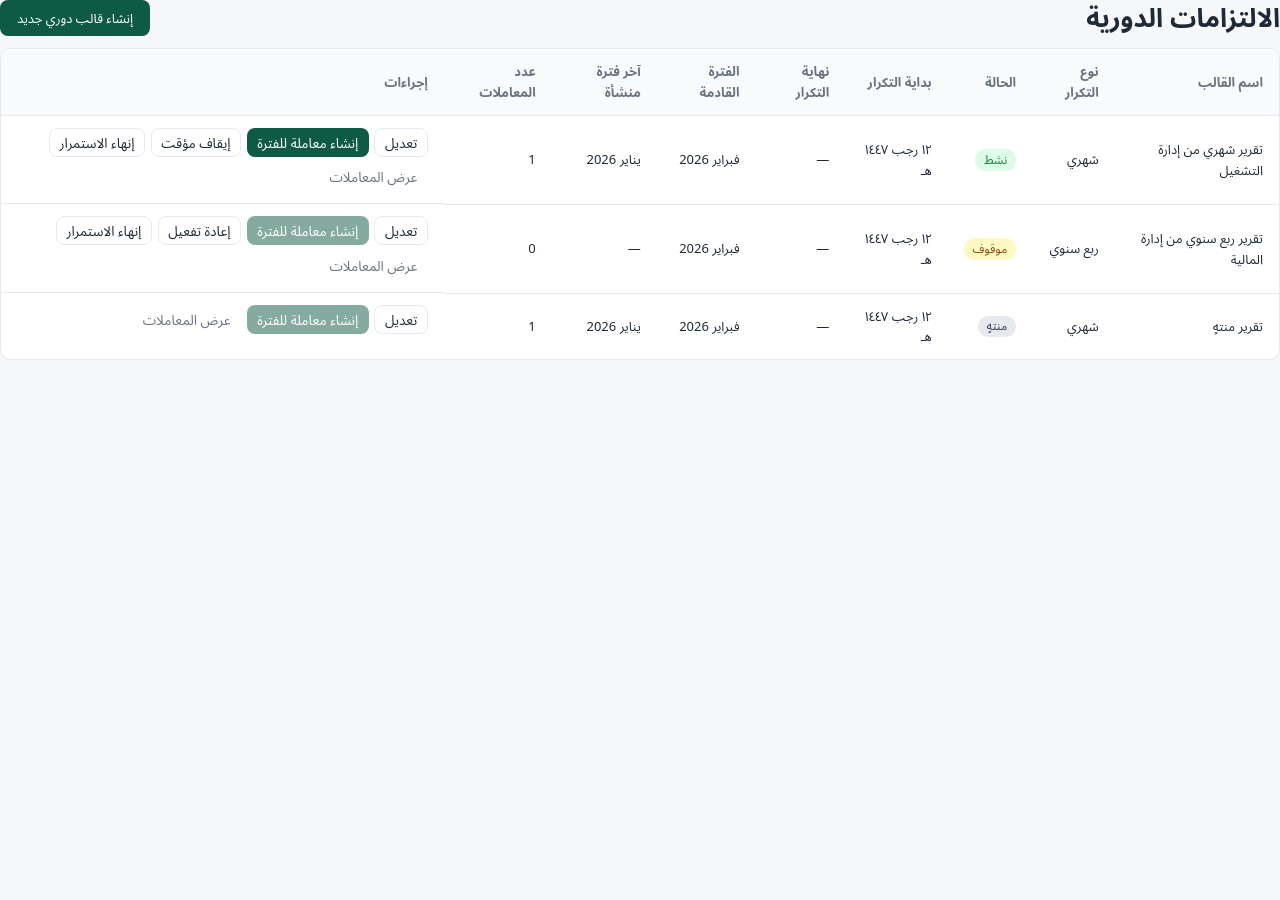
RecurringTemplatesPage › opens the create template modal
The width and height of the screenshot is (1280, 900).
Click the button "إنشاء قالب دوري جديد" at {"x": 75, "y": 18}, box [0,0,150,36]
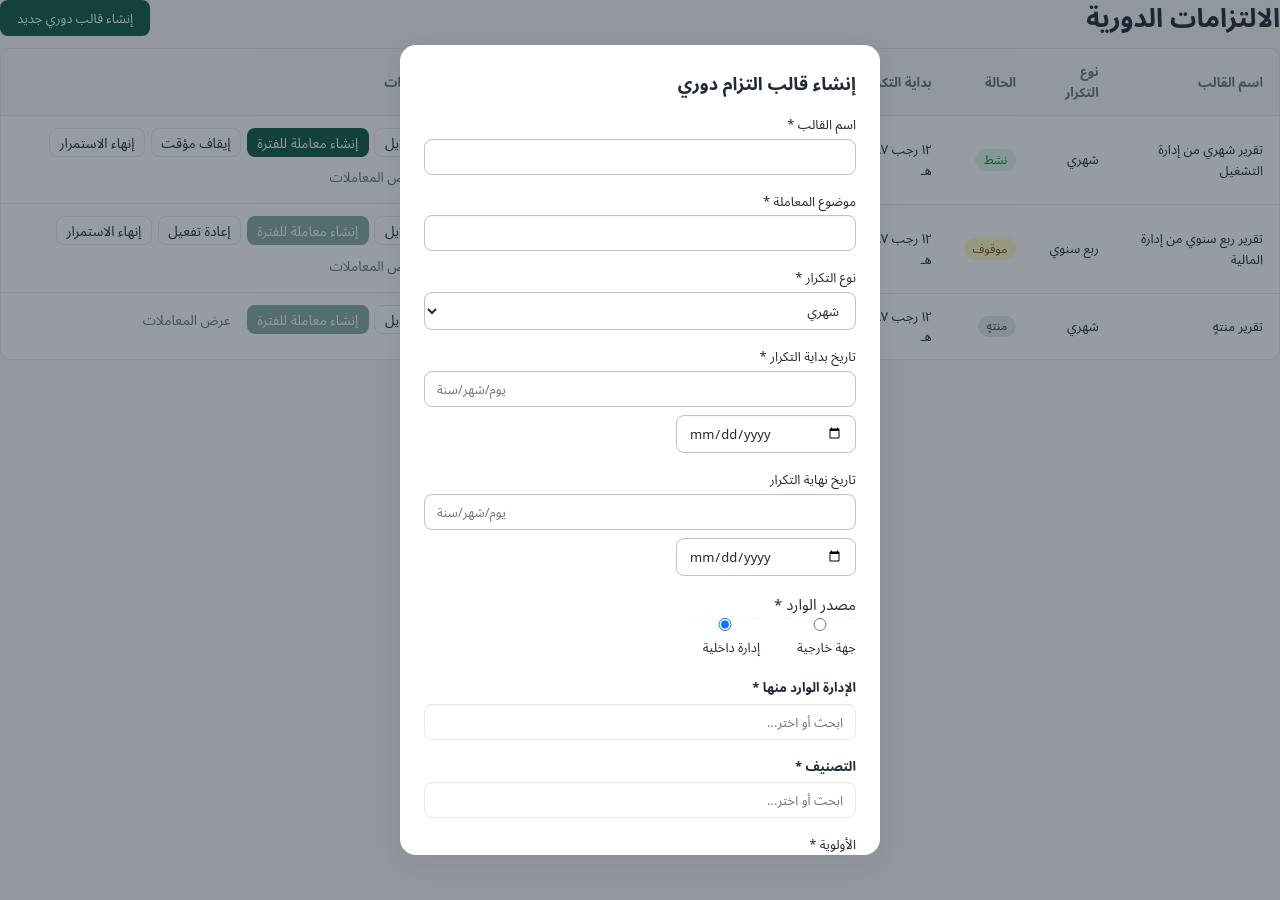
Check: the heading "إنشاء قالب التزام دوري" is shown, box [678,71,856,95]
